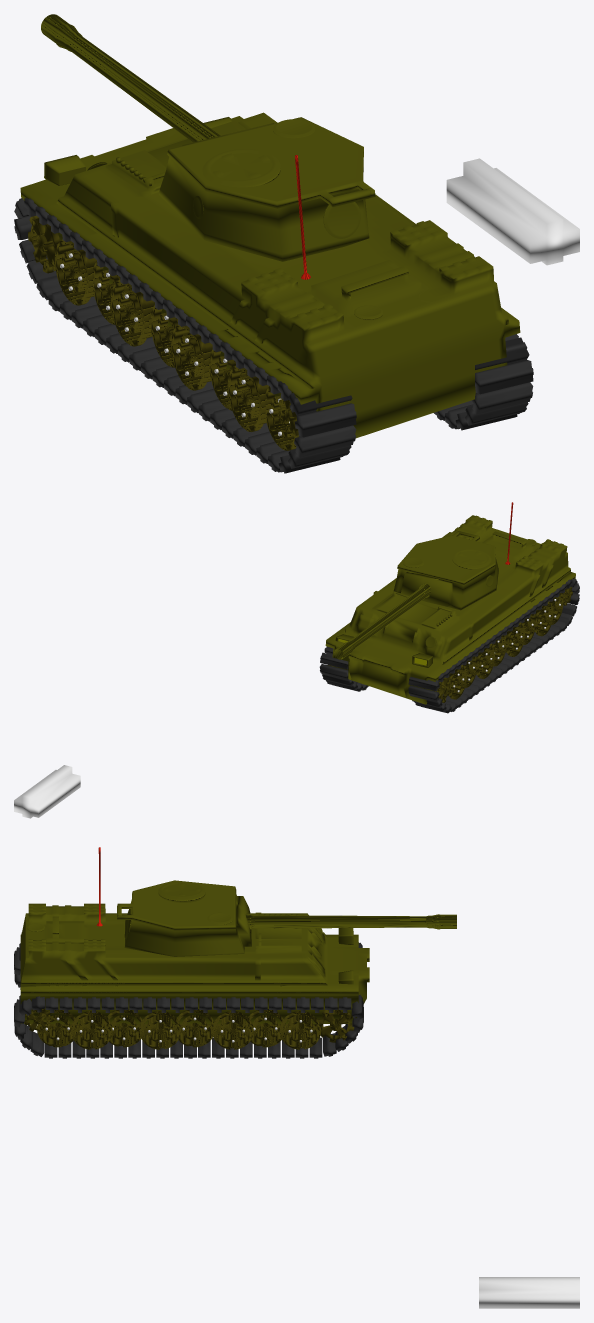
Rendered from armor.fbx.
3 views of the same model, one above another, from view 1: azimuth 30°, elevation 25°; view 2: azimuth 150°, elevation 25°; view 3: azimuth 270°, elevation 25° (orthographic). The views are drawn at different scales.
Parts seen in each view (by area): view 1: Cube, Cube_001, Cube_003, Cube_009, Circle_020, Cube_005, Cube_010, Cube_008, Cylinder, Circle_015, Circle_016, Circle_019 (+10 smaller); view 2: Cube, Cube_001, Cube_003, Cube_009, Circle_020, Cube_008, Cube_006, Cube_007, Cylinder, Cube_005, Circle_019, Circle_015 (+2 smaller); view 3: Cube, Cube_001, Cube_004, Cube_002, Cube_003, Circle_020, Circle_005, Circle_003, Circle_004, Circle, Cube_010, Circle_007 (+6 smaller).
Part boxes in pixels (x1=…): Cube: x1=20, y1=112, x2=520, y2=438; Cube_001: x1=159, y1=117, x2=375, y2=261; Cube_003: x1=446, y1=158, x2=579, y2=265; Cube_009: x1=48, y1=291, x2=295, y2=472; Circle_020: x1=41, y1=14, x2=220, y2=142; Cube_005: x1=277, y1=381, x2=356, y2=473; Cube_010: x1=455, y1=334, x2=533, y2=430; Cube_008: x1=24, y1=198, x2=280, y2=394; Cylinder: x1=202, y1=149, x2=280, y2=187; Circle_015: x1=111, y1=280, x2=154, y2=346; Circle_016: x1=171, y1=324, x2=212, y2=390; Circle_019: x1=227, y1=365, x2=271, y2=431; Cube: x1=325, y1=515, x2=575, y2=704; Cube_001: x1=393, y1=531, x2=498, y2=610; Cube_003: x1=14, y1=765, x2=80, y2=818; Cube_009: x1=442, y1=620, x2=567, y2=711; Circle_020: x1=334, y1=583, x2=431, y2=659; Cube_008: x1=438, y1=584, x2=566, y2=682; Cube_006: x1=319, y1=652, x2=363, y2=691; Cube_007: x1=408, y1=676, x2=451, y2=713; Cylinder: x1=452, y1=549, x2=491, y2=569; Cube_005: x1=558, y1=578, x2=579, y2=625; Circle_019: x1=530, y1=602, x2=553, y2=636; Circle_015: x1=472, y1=645, x2=494, y2=678; Cube: x1=20, y1=903, x2=369, y2=1023; Cube_001: x1=117, y1=880, x2=251, y2=956; Cube_004: x1=45, y1=997, x2=351, y2=1012; Cube_002: x1=44, y1=1037, x2=322, y2=1058; Cube_003: x1=479, y1=1277, x2=579, y2=1308; Circle_020: x1=245, y1=913, x2=456, y2=929; Circle_005: x1=279, y1=1011, x2=321, y2=1049; Circle_003: x1=139, y1=1011, x2=180, y2=1049; Circle_004: x1=212, y1=1011, x2=253, y2=1049; Circle: x1=71, y1=1011, x2=112, y2=1049; Cube_010: x1=14, y1=995, x2=45, y2=1056; Circle_007: x1=174, y1=1009, x2=214, y2=1047.
Size of the model in its own units: 3.47 by 2.39 by 4.26.
